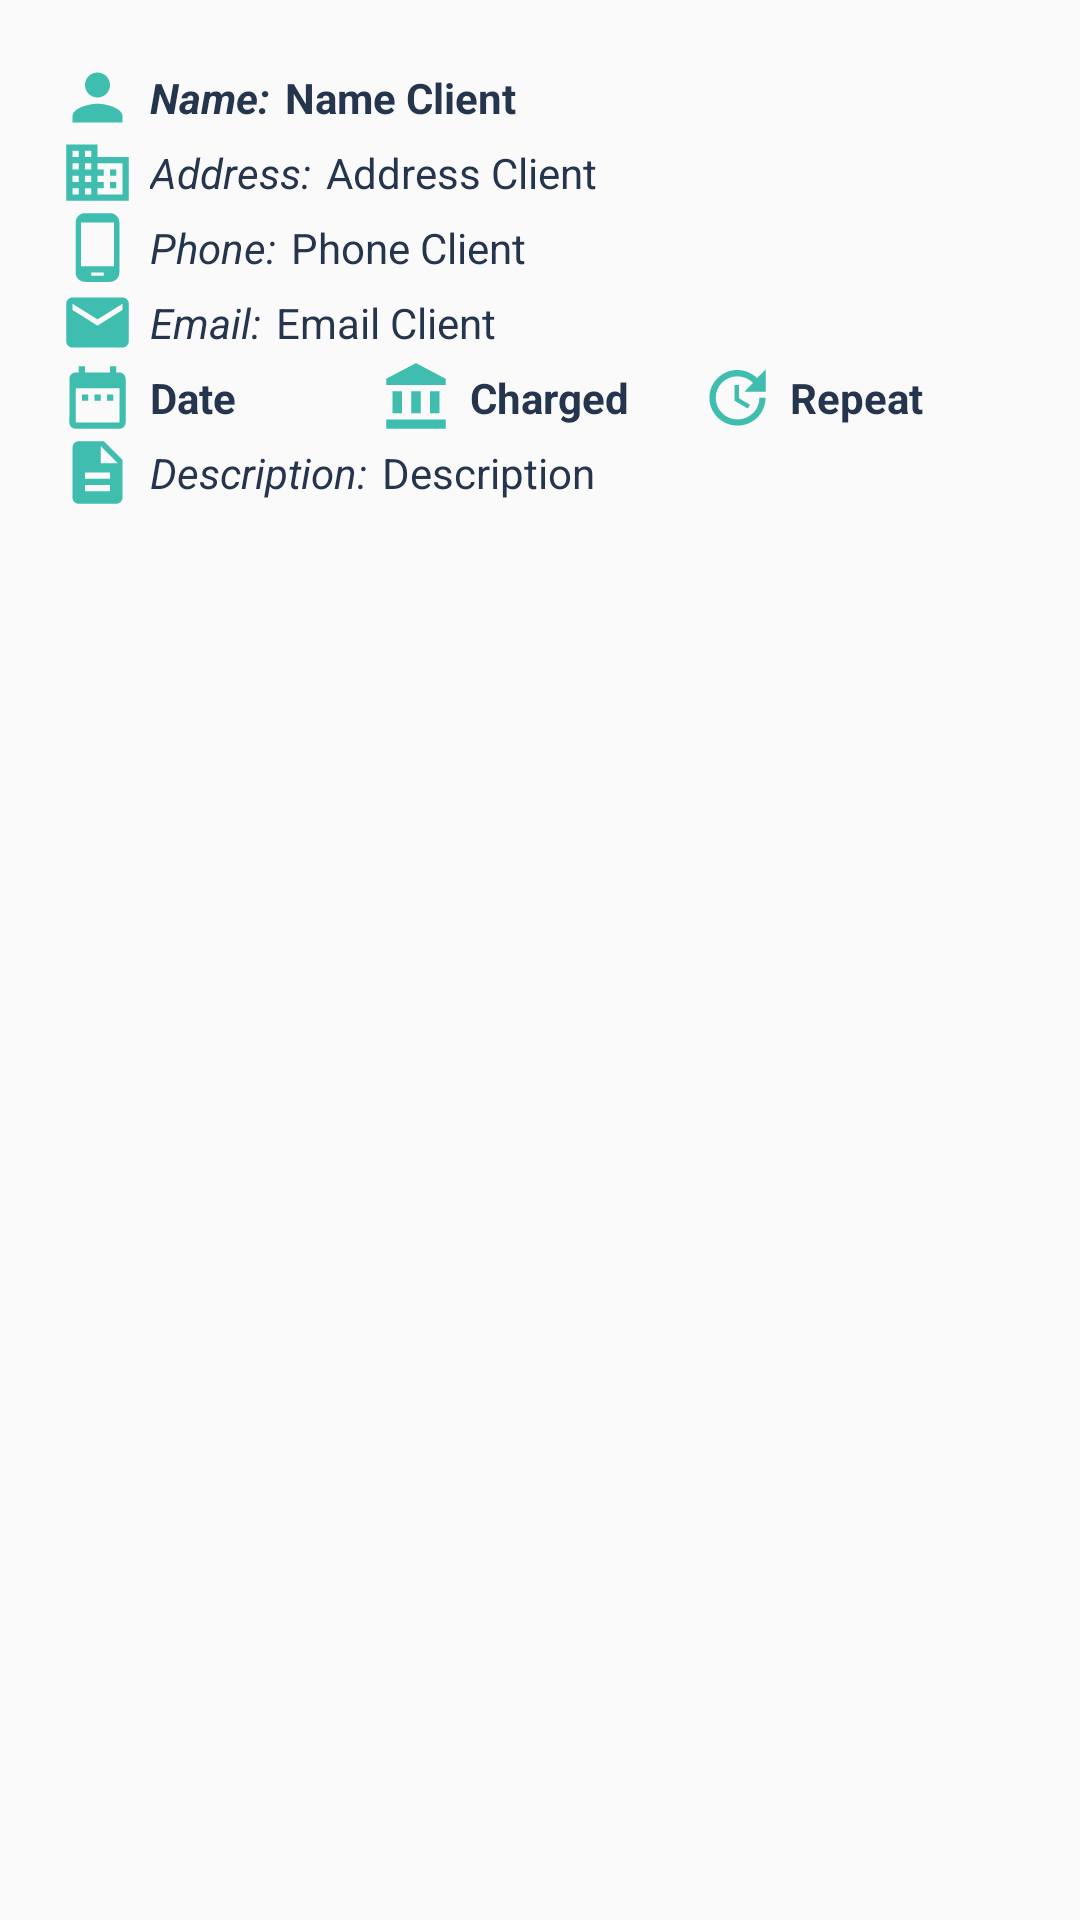

Icons on this 1080px×1920px Android screen, each with the point to tap as (x,y):
clients add activity calendar: (97,397)
clients add activity client: (97,97)
